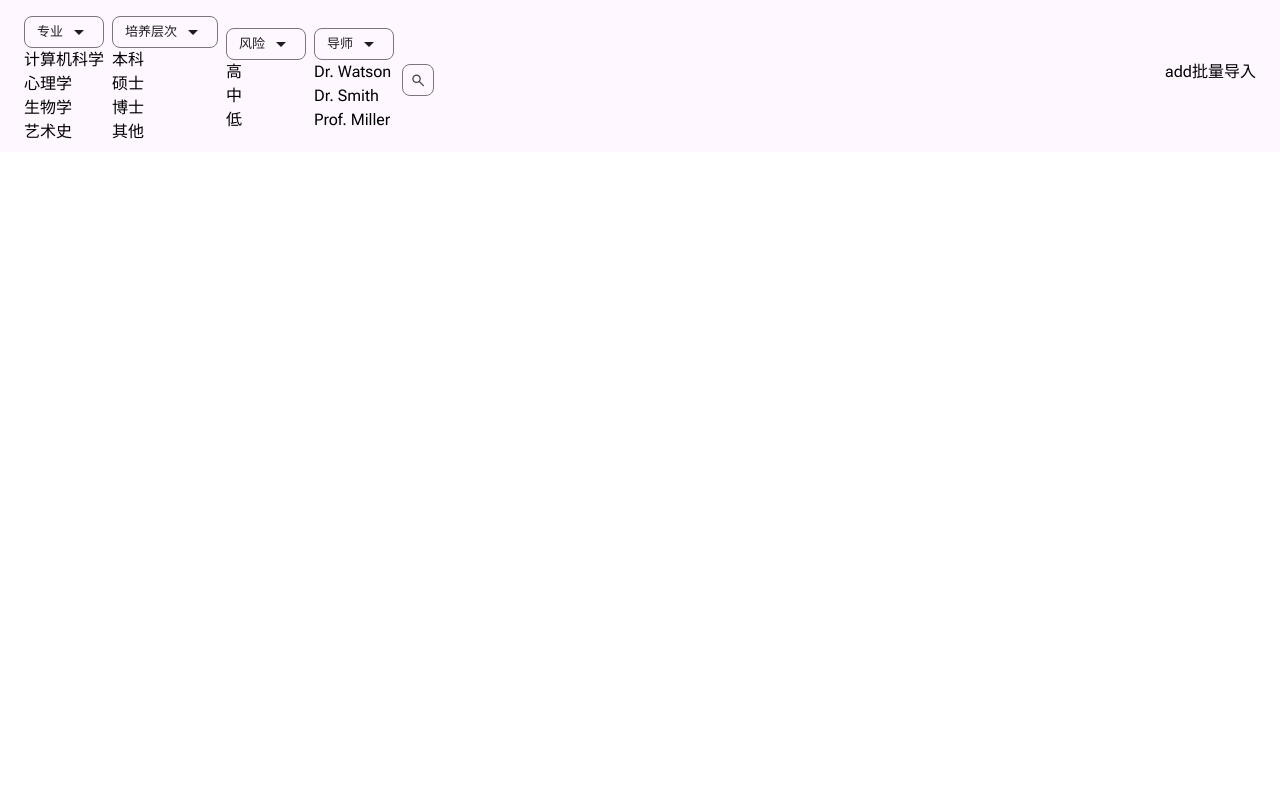
Test: StudentsView Component › opens StudentBulkImportDialog when 批量导入 button is clicked
The width and height of the screenshot is (1280, 800).
Click the text "批量导入" at (1211, 72), box [1165,62,1256,81]
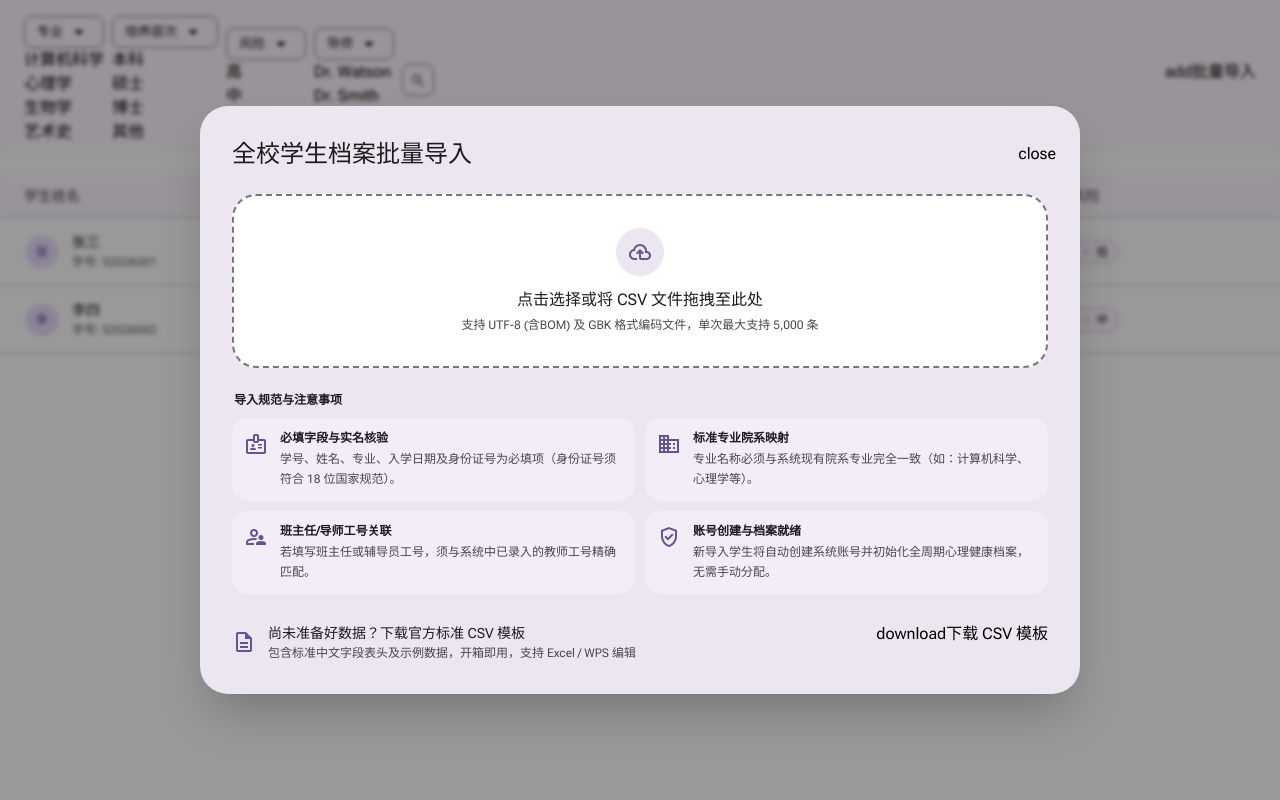
Expected: the heading "全校学生档案批量导入" is shown, [232,140,472,168]
